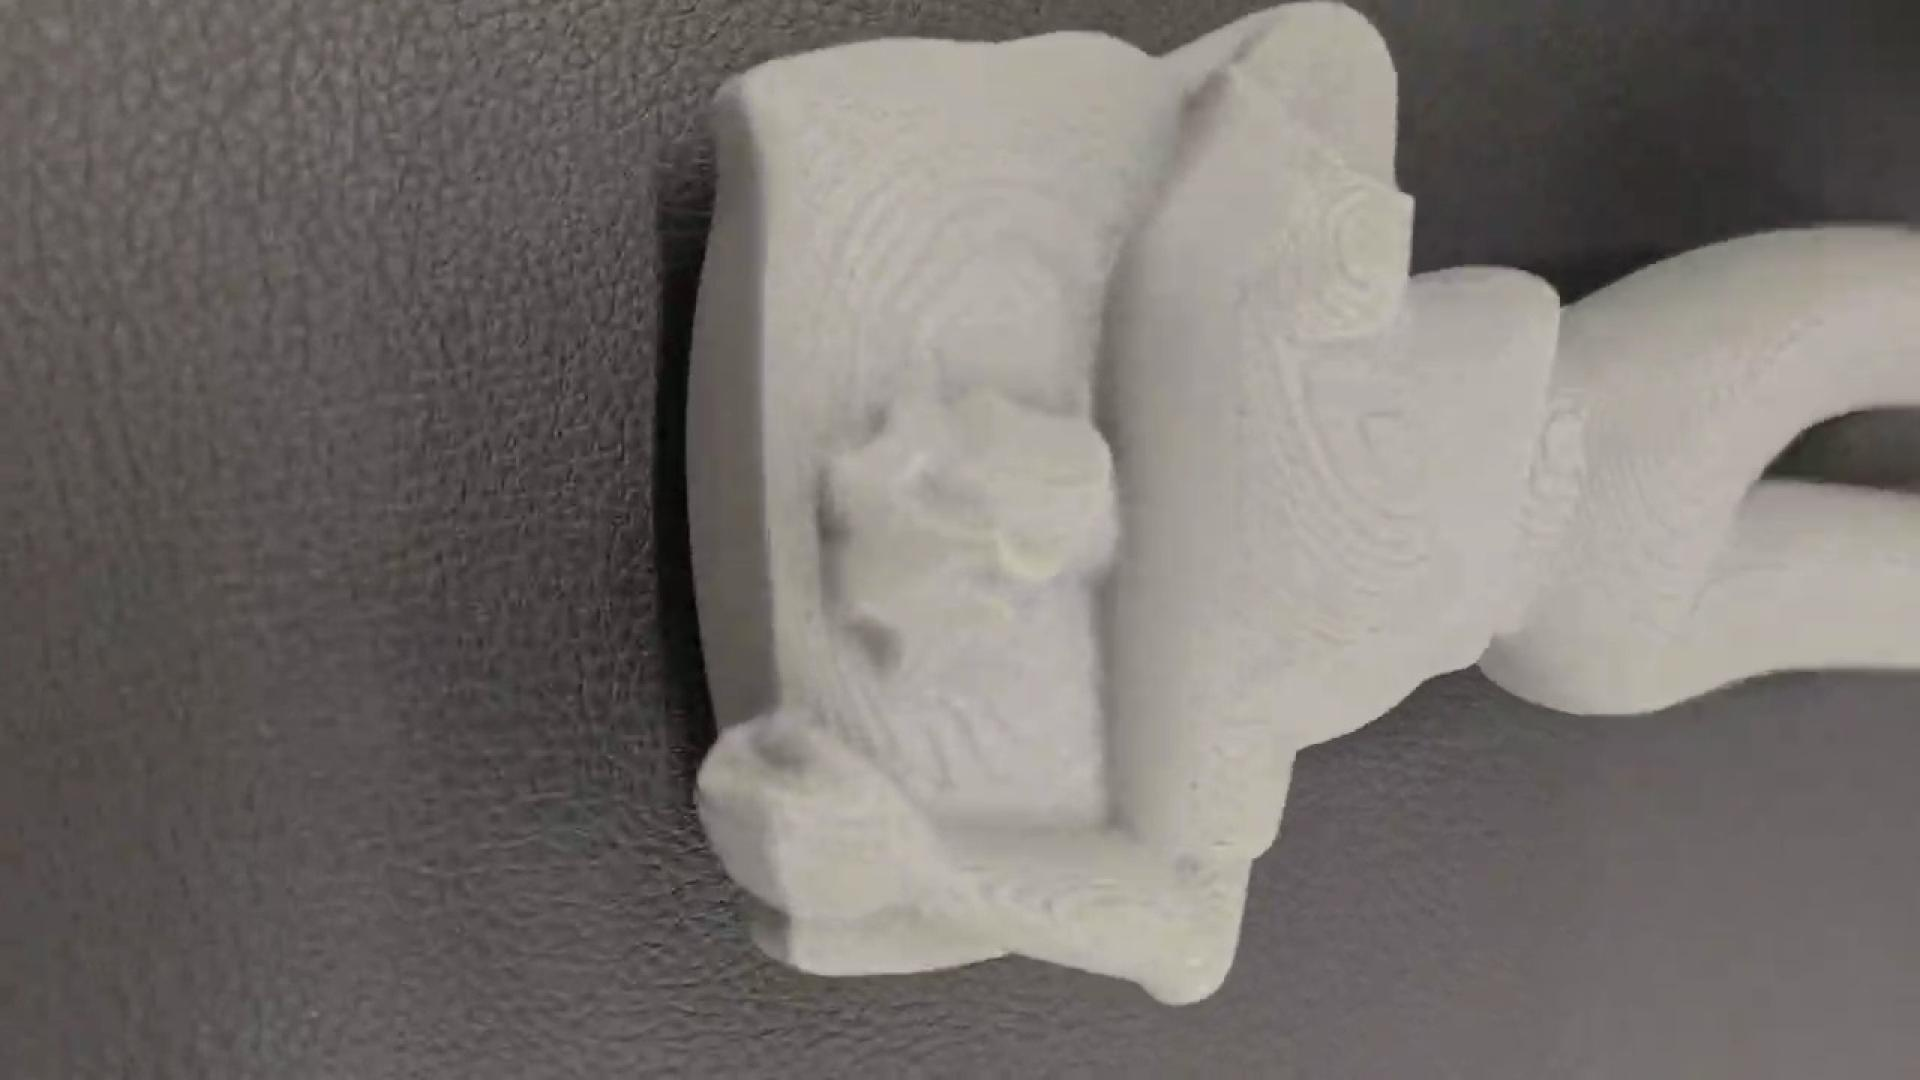Bad-style: (678, 0, 1920, 1010)
